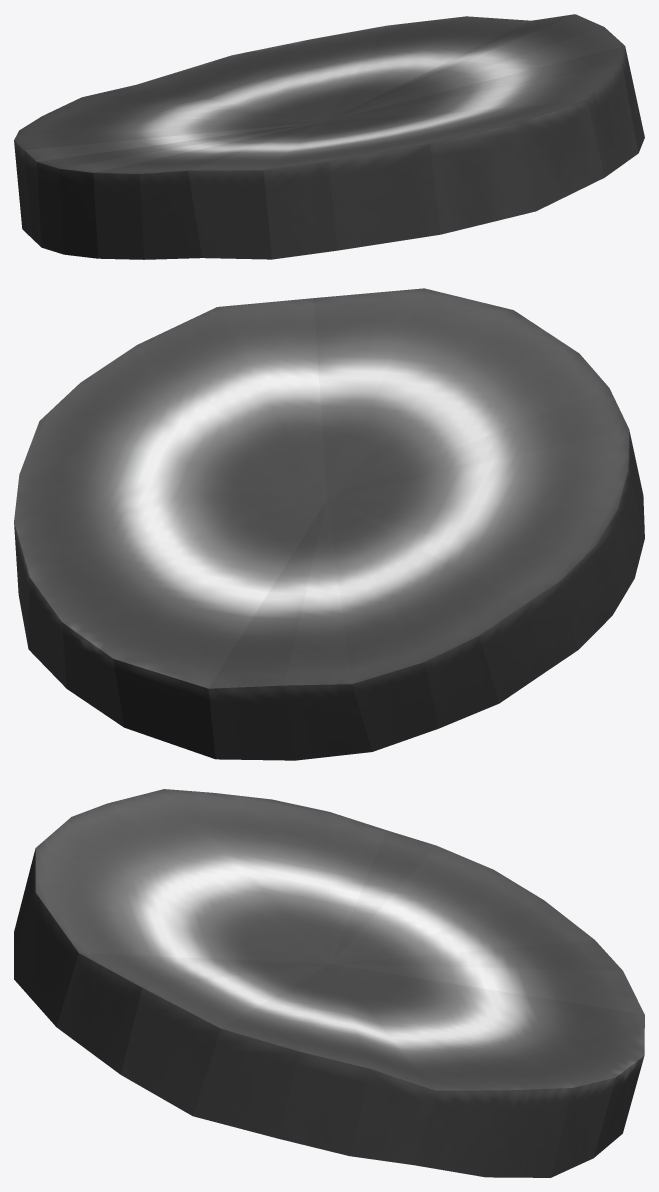
The model's file is pfd_mr_controller_right_home.obj.
3 renders of one model, top to bottom at view 1: azimuth 30°, elevation 25°; view 2: azimuth 150°, elevation 25°; view 3: azimuth 270°, elevation 25°, orthographic.
Parts seen in each view (by area): view 1: pfd_mr_controller_right_home; view 2: pfd_mr_controller_right_home; view 3: pfd_mr_controller_right_home.
Boxes of the visible parts, x1=… form: pfd_mr_controller_right_home: x1=14, y1=14, x2=644, y2=259; pfd_mr_controller_right_home: x1=14, y1=288, x2=644, y2=760; pfd_mr_controller_right_home: x1=14, y1=789, x2=644, y2=1177.
Bounding box in the file's own units: 0.0092 × 0.0038 × 0.00901.
1 material, 1 textured.
